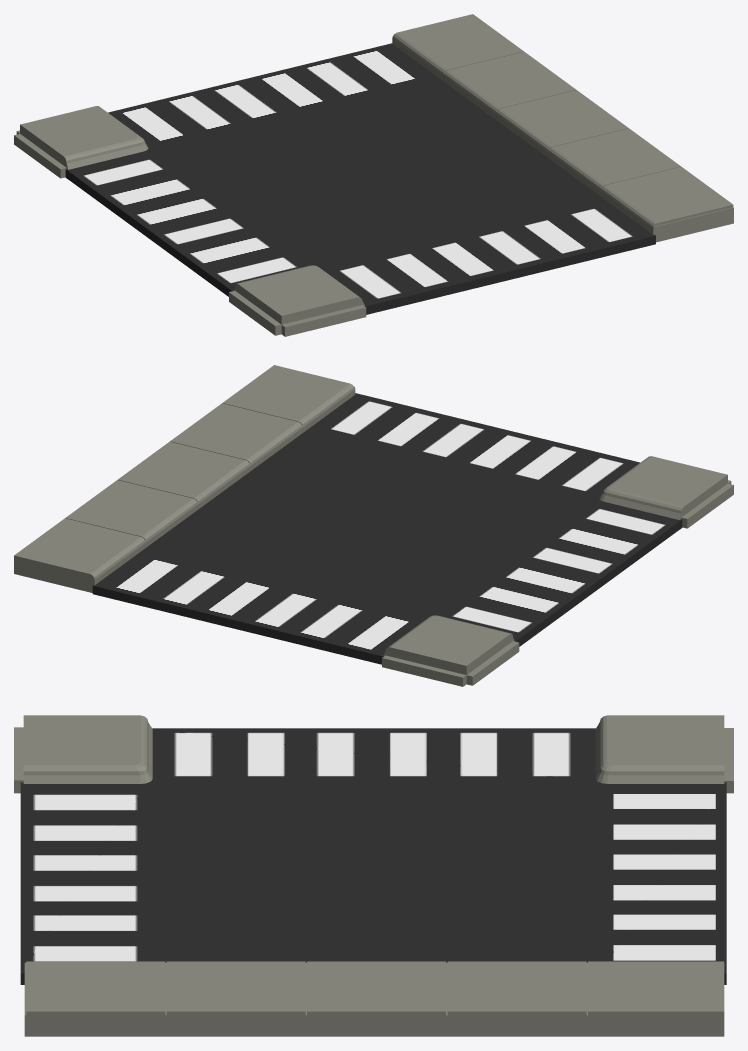
The model's file is Road 3Way.fbx.
The picture shows the model from 3 angles, top to bottom: view 1: azimuth 30°, elevation 25°; view 2: azimuth 150°, elevation 25°; view 3: azimuth 270°, elevation 25°; orthographic projection. The views are drawn at different scales.
Parts seen in each view (by area): view 1: Road, Sidewalk.001, Sidewalk, Sidewalk.002; view 2: Road, Sidewalk.001, Sidewalk.002, Sidewalk; view 3: Road, Sidewalk.001, Sidewalk, Sidewalk.002.
Boxes of the visible parts, bbox=[...] form: Road: bbox=[65, 43, 655, 314]; Sidewalk.001: bbox=[392, 14, 733, 242]; Sidewalk: bbox=[229, 265, 366, 336]; Sidewalk.002: bbox=[14, 106, 148, 178]; Road: bbox=[92, 393, 682, 664]; Sidewalk.001: bbox=[14, 365, 355, 592]; Sidewalk.002: bbox=[382, 615, 519, 686]; Sidewalk: bbox=[599, 456, 733, 529]; Road: bbox=[20, 728, 726, 984]; Sidewalk.001: bbox=[24, 961, 724, 1036]; Sidewalk: bbox=[14, 715, 152, 793]; Sidewalk.002: bbox=[595, 715, 733, 793].
Bounding box in the file's own units: 2837 × 118 × 2874.
3 materials, 1 textured.
